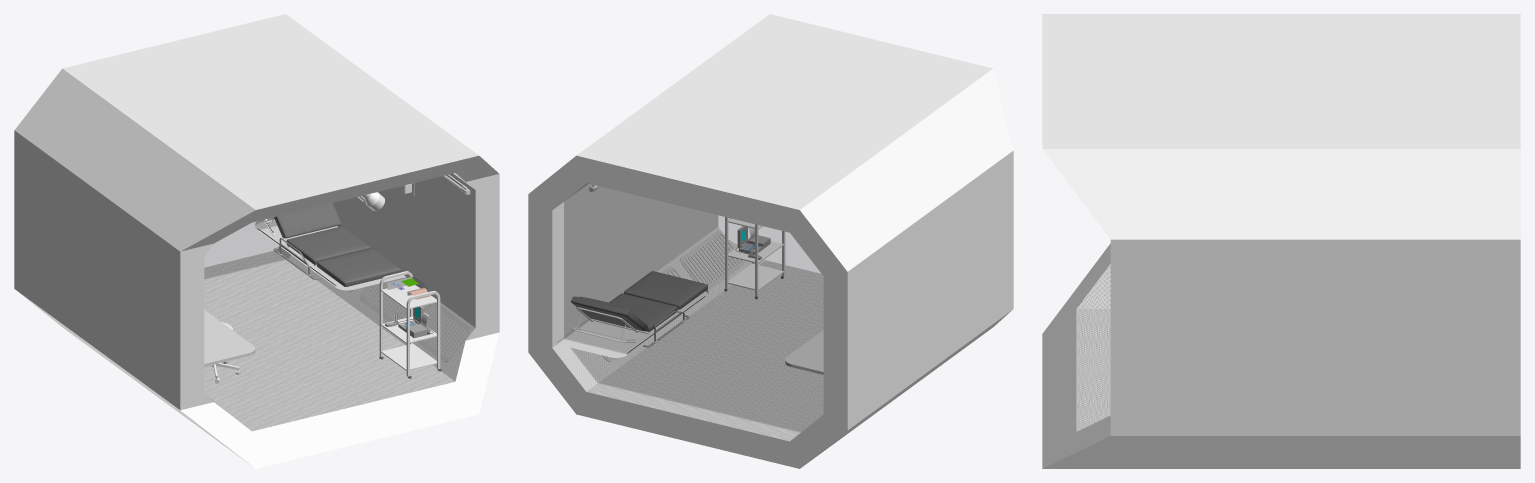
The model's file is ARKHA_L3_MedBay_V1.glb.
3 views of the same model, side by side, from view 1: azimuth 30°, elevation 25°; view 2: azimuth 150°, elevation 25°; view 3: azimuth 270°, elevation 25° (orthographic). The views are drawn at different scales.
Visible parts, largest first — view 1: 3DGeom-118, 3DGeom-120, 3DGeom-117, 3DGeom-38, 3DGeom-86, 3DGeom-217 (×2), 3DGeom-26, 3DGeom-99, 3DGeom-109, 3DGeom-95, 3DGeom-101, 3DGeom-97 (+2 smaller); view 2: 3DGeom-118, 3DGeom-117, 3DGeom-120, 3DGeom-109, 3DGeom-26, 3DGeom-101, 3DGeom-38, 3DGeom-99, 3DGeom-88, 3DGeom-217, 3DGeom-95, 3DGeom-215; view 3: 3DGeom-118, 3DGeom-120.
Boxes of the visible parts, box(x1,y1,x2,y2) form: 3DGeom-118: box(14, 14, 499, 468); 3DGeom-120: box(204, 246, 474, 431); 3DGeom-117: box(204, 218, 290, 278); 3DGeom-38: box(204, 310, 255, 366); 3DGeom-86: box(274, 203, 341, 238); 3DGeom-217 (×2): box(381, 285, 436, 370); 3DGeom-26: box(417, 302, 470, 362); 3DGeom-99: box(330, 258, 400, 286); 3DGeom-109: box(255, 217, 406, 290); 3DGeom-95: box(300, 236, 370, 264); 3DGeom-101: box(317, 248, 386, 276); 3DGeom-97: box(286, 226, 355, 253); 3DGeom-118: box(528, 14, 1013, 468); 3DGeom-117: box(564, 183, 823, 431); 3DGeom-120: box(552, 227, 823, 441); 3DGeom-109: box(557, 290, 708, 357); 3DGeom-26: box(680, 231, 744, 290); 3DGeom-101: box(624, 281, 694, 309); 3DGeom-38: box(785, 330, 823, 374); 3DGeom-99: box(639, 271, 707, 298); 3DGeom-88: box(570, 296, 638, 323); 3DGeom-217: box(728, 263, 783, 290); 3DGeom-95: box(609, 293, 677, 321); 3DGeom-215: box(725, 217, 758, 296); 3DGeom-118: box(1042, 14, 1520, 468); 3DGeom-120: box(1076, 264, 1110, 431).
Bounding box in the file's own units: 4 × 3.1 × 4.2.
33 materials, 5 textured.
